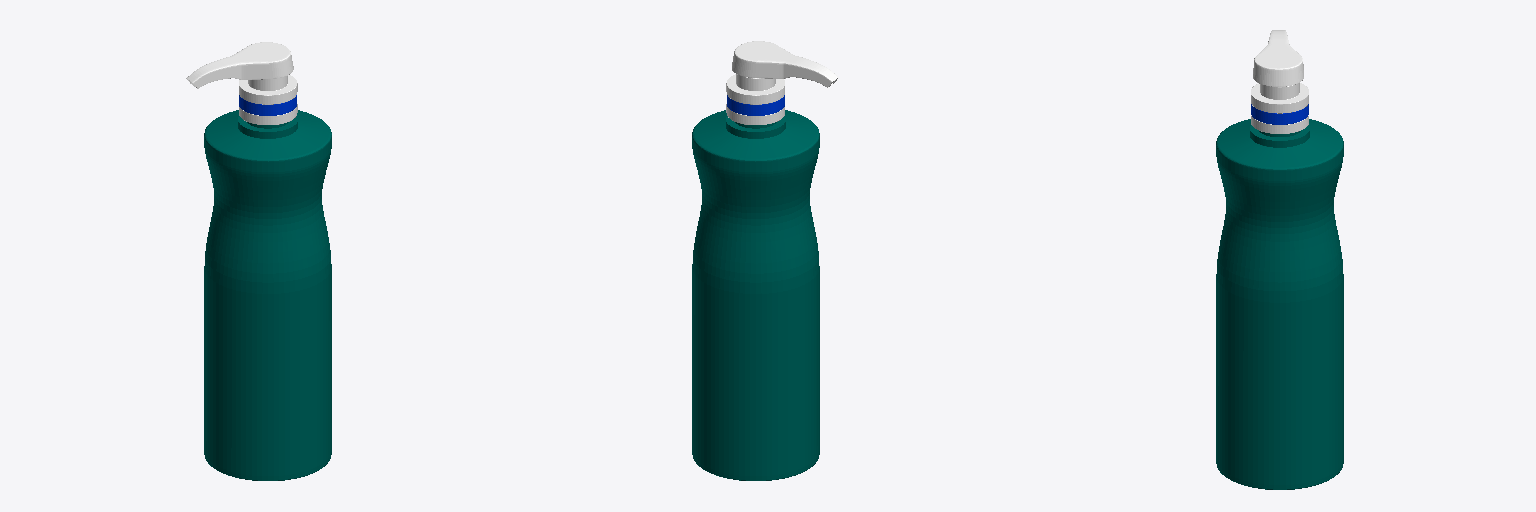
Rendered from BlondesConditioner-9oz.obj.
The picture shows the model from 3 angles: view 1: azimuth 30°, elevation 25°; view 2: azimuth 150°, elevation 25°; view 3: azimuth 270°, elevation 25°; orthographic projection.
Parts seen in each view (by area): view 1: Cylinder007, Cylinder008, Object008, Object009; view 2: Cylinder007, Cylinder008, Object008, Object009; view 3: Cylinder007, Cylinder008, Object008, Object009.
Boxes of the visible parts, box(x1,y1,x2,y2) form: Cylinder007: box(204, 110, 331, 480); Cylinder008: box(186, 42, 293, 88); Object008: box(239, 75, 297, 124); Object009: box(239, 95, 296, 115); Cylinder007: box(692, 110, 819, 480); Cylinder008: box(732, 41, 838, 87); Object008: box(726, 74, 784, 124); Object009: box(727, 95, 784, 115); Cylinder007: box(1216, 119, 1343, 489); Cylinder008: box(1253, 30, 1303, 86); Object008: box(1251, 83, 1308, 133); Object009: box(1251, 104, 1308, 124).
Bounding box in the file's own units: 23.45 × 67.29 × 19.25.